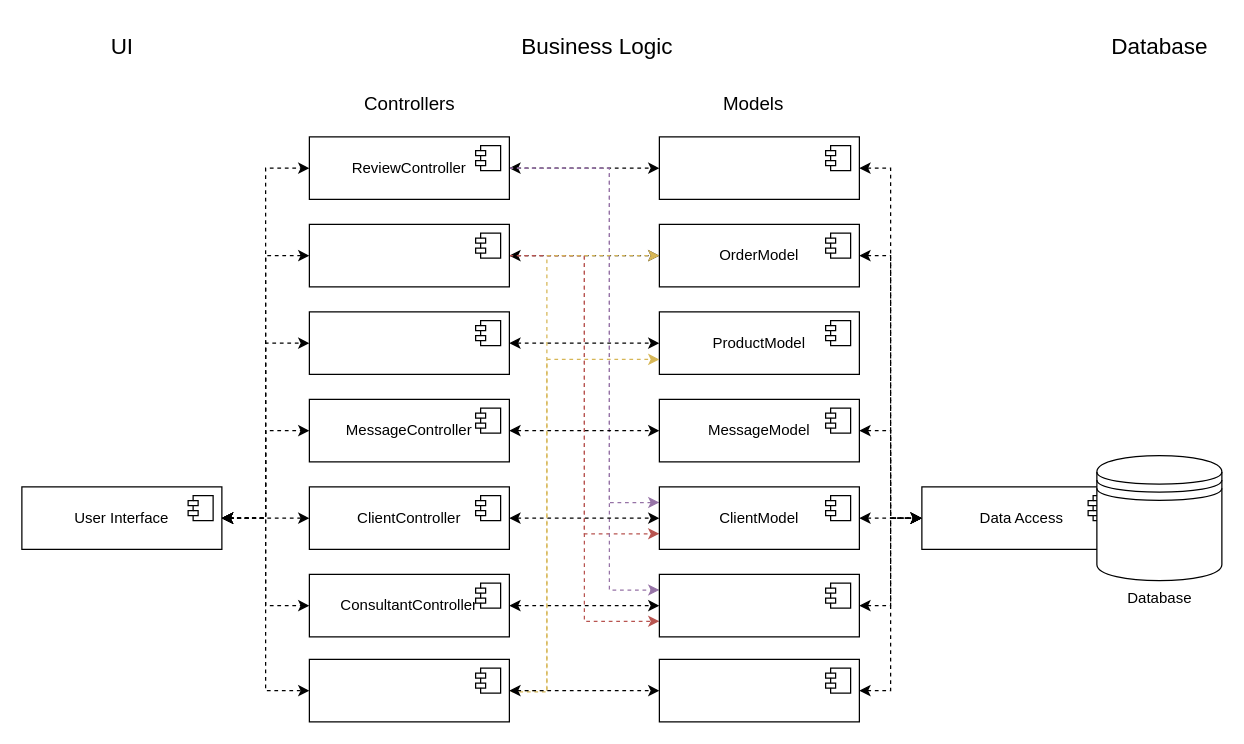
This 1244x744 diagram has some shape labels left out. The shapes that lost their labels are listed below. From the top down, each one's box as (x1, y1, x2, y2) in pixels, then its label:
(658, 136, 859, 199): ReviewModel
(308, 223, 509, 287): OrderController
(308, 311, 509, 374): ProductController
(658, 573, 859, 637): ConsultantModel
(308, 658, 509, 722): OrderProductController
(658, 658, 859, 722): OrderProductModel
